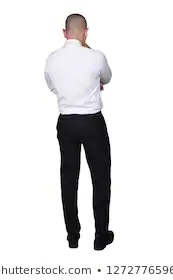F_dress pants: (54, 110, 116, 237)
